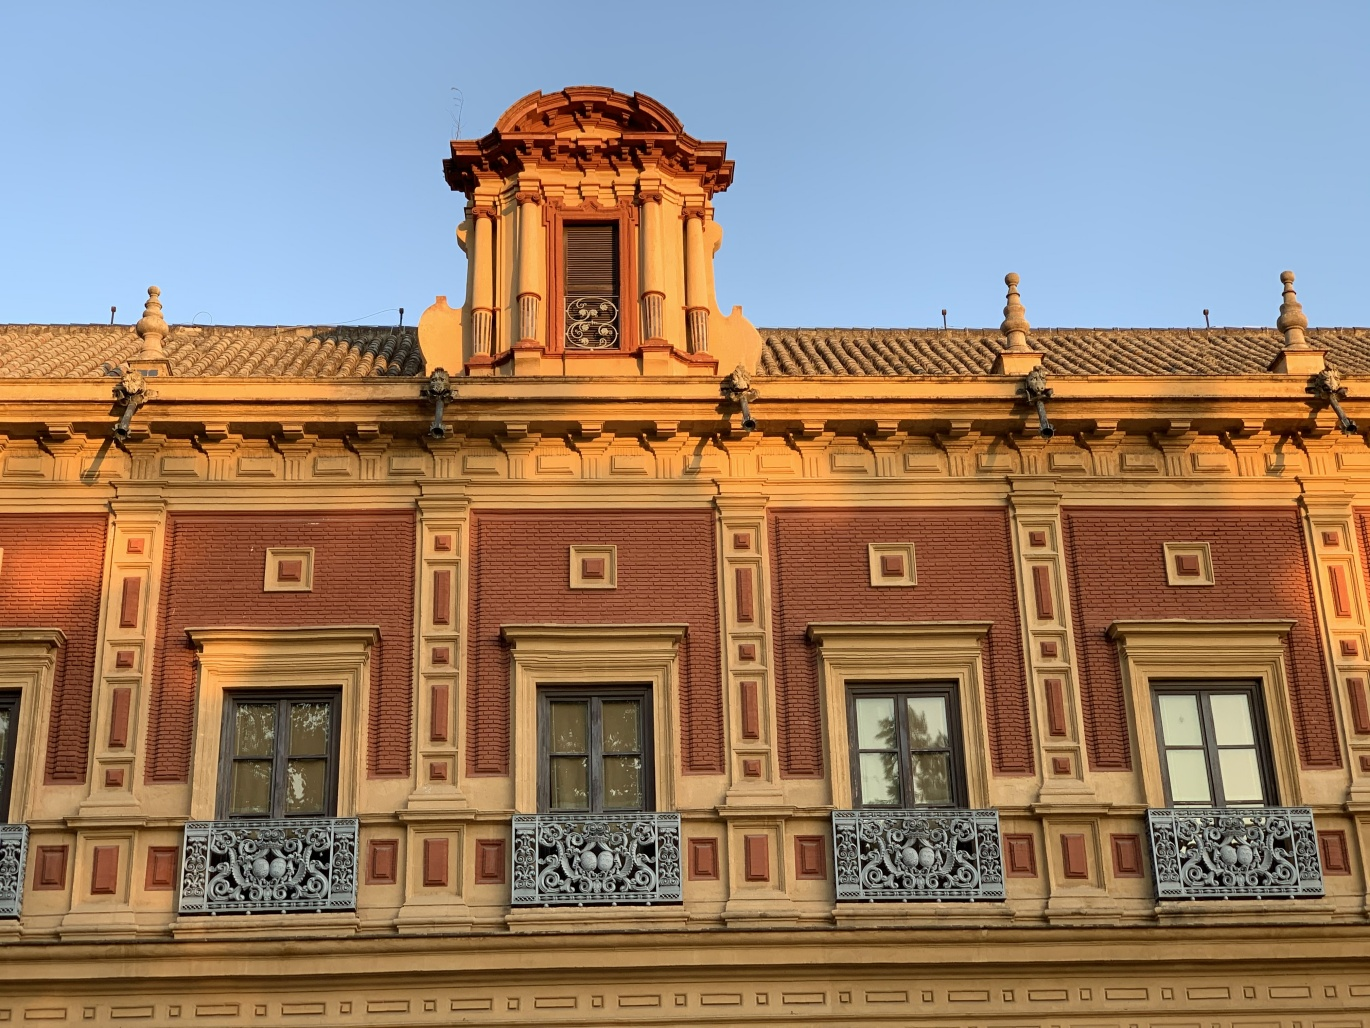fronton-partido: (490, 79, 690, 155)
vano-adintelado: (1127, 642, 1312, 837), (191, 646, 370, 846), (508, 646, 687, 827), (826, 645, 999, 825), (542, 190, 648, 341)
